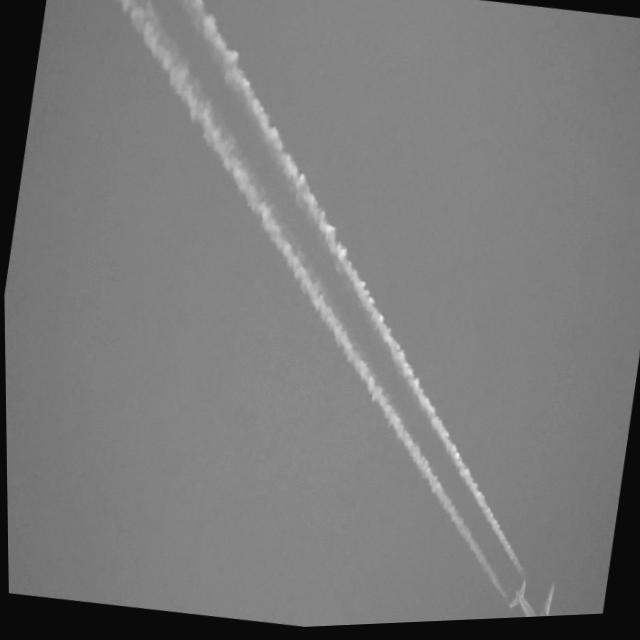aeroplane: (500, 577, 566, 623)
